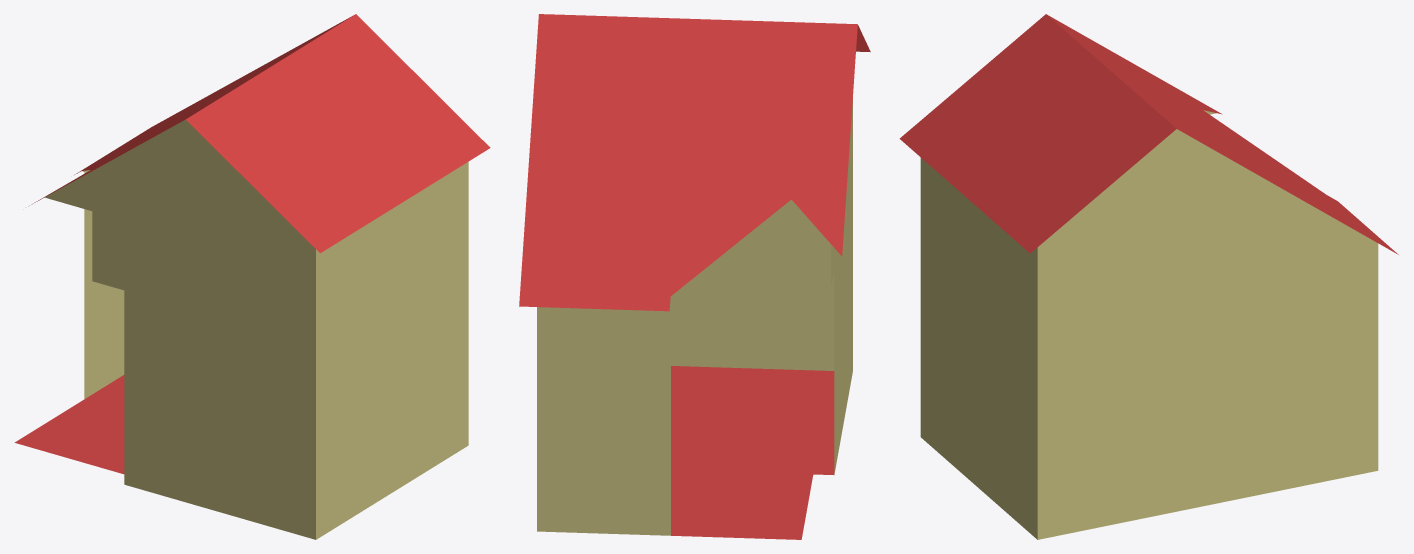
3 renders of one model, left to right at view 1: azimuth 30°, elevation 25°; view 2: azimuth 150°, elevation 25°; view 3: azimuth 270°, elevation 25°, orthographic. The views are drawn at different scales.
Size of the model in its own units: 13.55 by 15.84 by 13.64.
